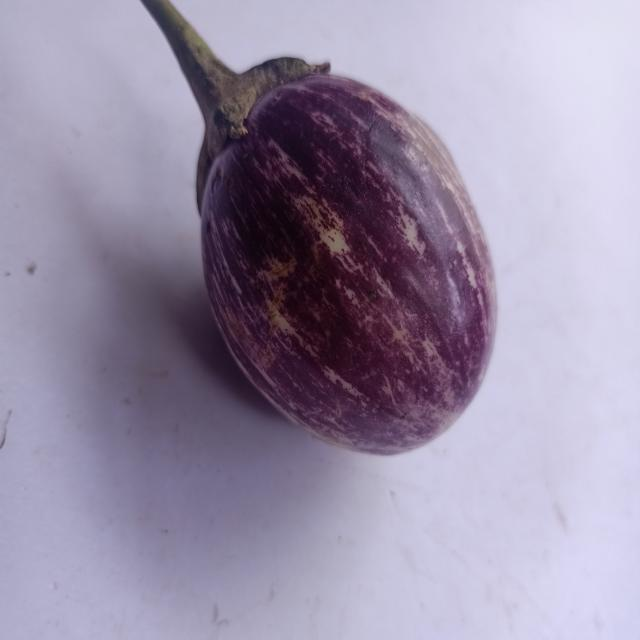Eggplant: (114, 2, 526, 452)
